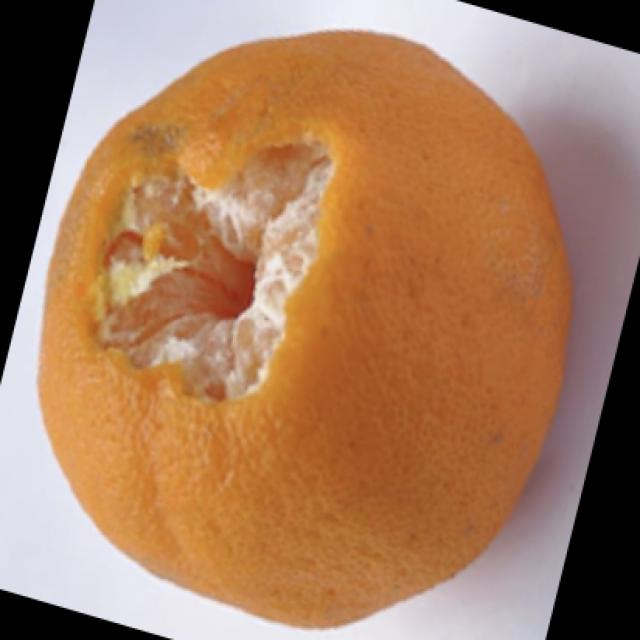fresh: (21, 4, 594, 636)
